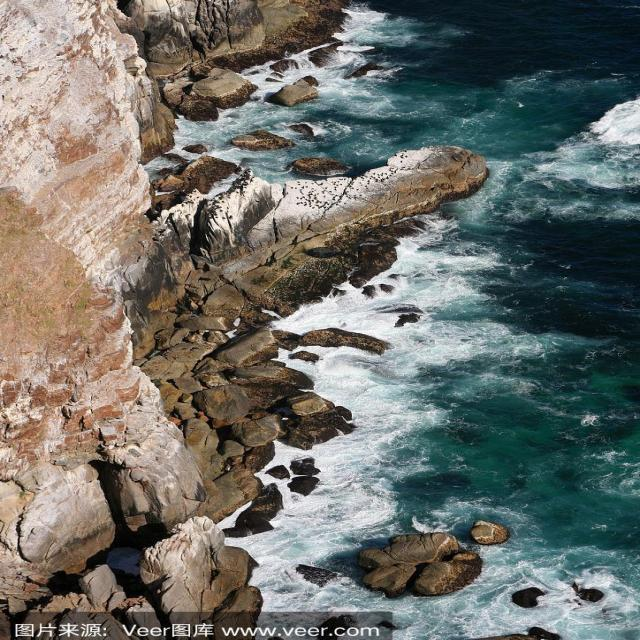reef: (210, 289, 388, 440), (219, 92, 437, 183), (320, 502, 554, 575)
